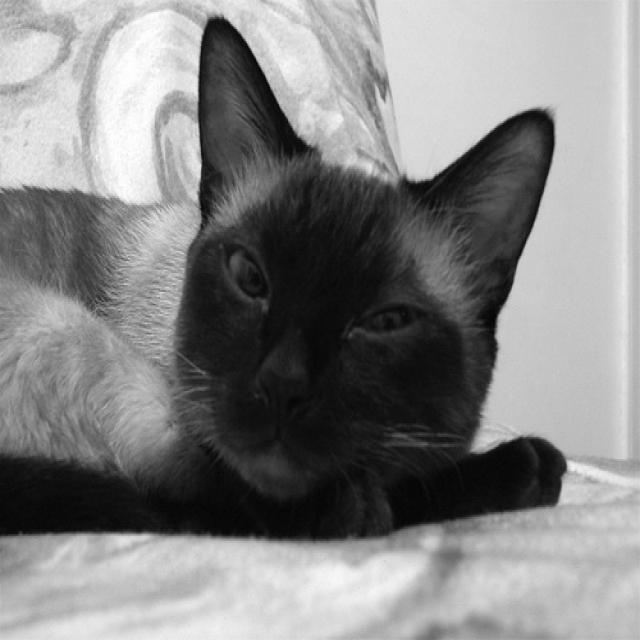cat: (1, 16, 568, 542)
